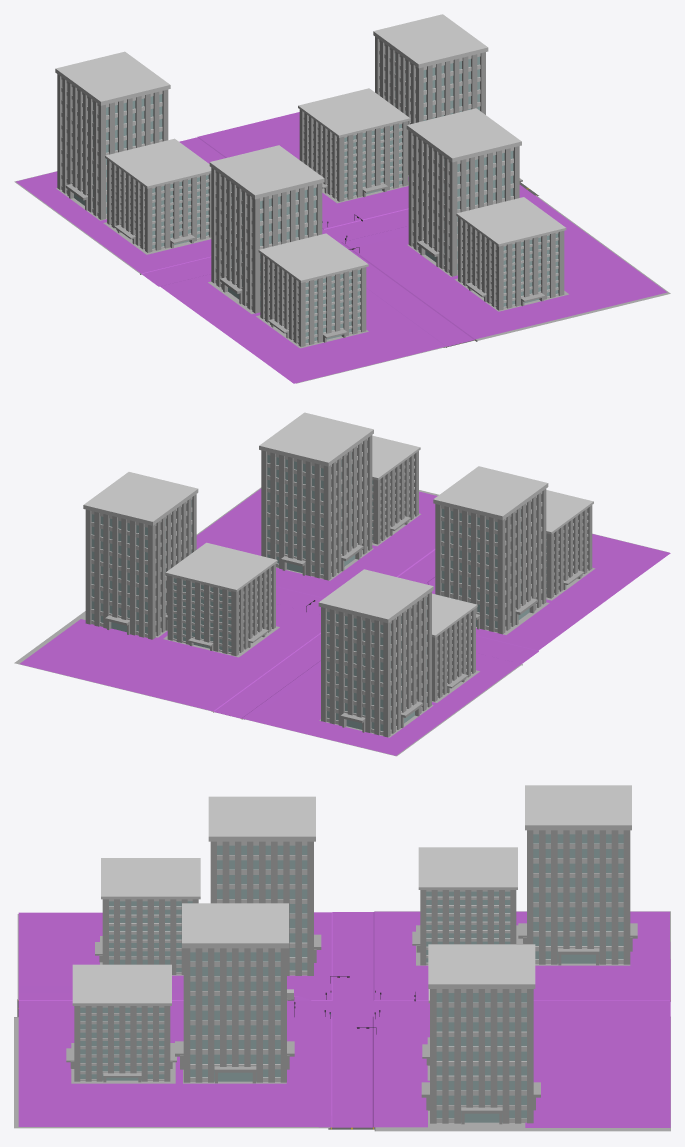
Rendered from MAP_Wave_03.fbx.
The picture shows the model from 3 angles, top to bottom: view 1: azimuth 30°, elevation 25°; view 2: azimuth 150°, elevation 25°; view 3: azimuth 270°, elevation 25°; orthographic projection. The views are drawn at different scales.
Visible parts, largest first — view 1: group18_group10_Building_16, Wave_03_NAV_GEO, Floor; view 2: group18_group10_Building_16, Wave_03_NAV_GEO, Floor; view 3: group18_group10_Building_16, Wave_03_NAV_GEO, Floor.
Part boxes in pixels (x1,y1,x2,y2): group18_group10_Building_16: (55,14,566,346); Wave_03_NAV_GEO: (16,112,667,383); Floor: (14,171,670,383); group18_group10_Building_16: (83,412,593,737); Wave_03_NAV_GEO: (20,488,670,755); Floor: (14,487,668,756); group18_group10_Building_16: (66,785,637,1124); Wave_03_NAV_GEO: (18,911,670,1127); Floor: (14,911,670,1131).
Size of the model in its own units: 6447 by 2083 by 8139.
